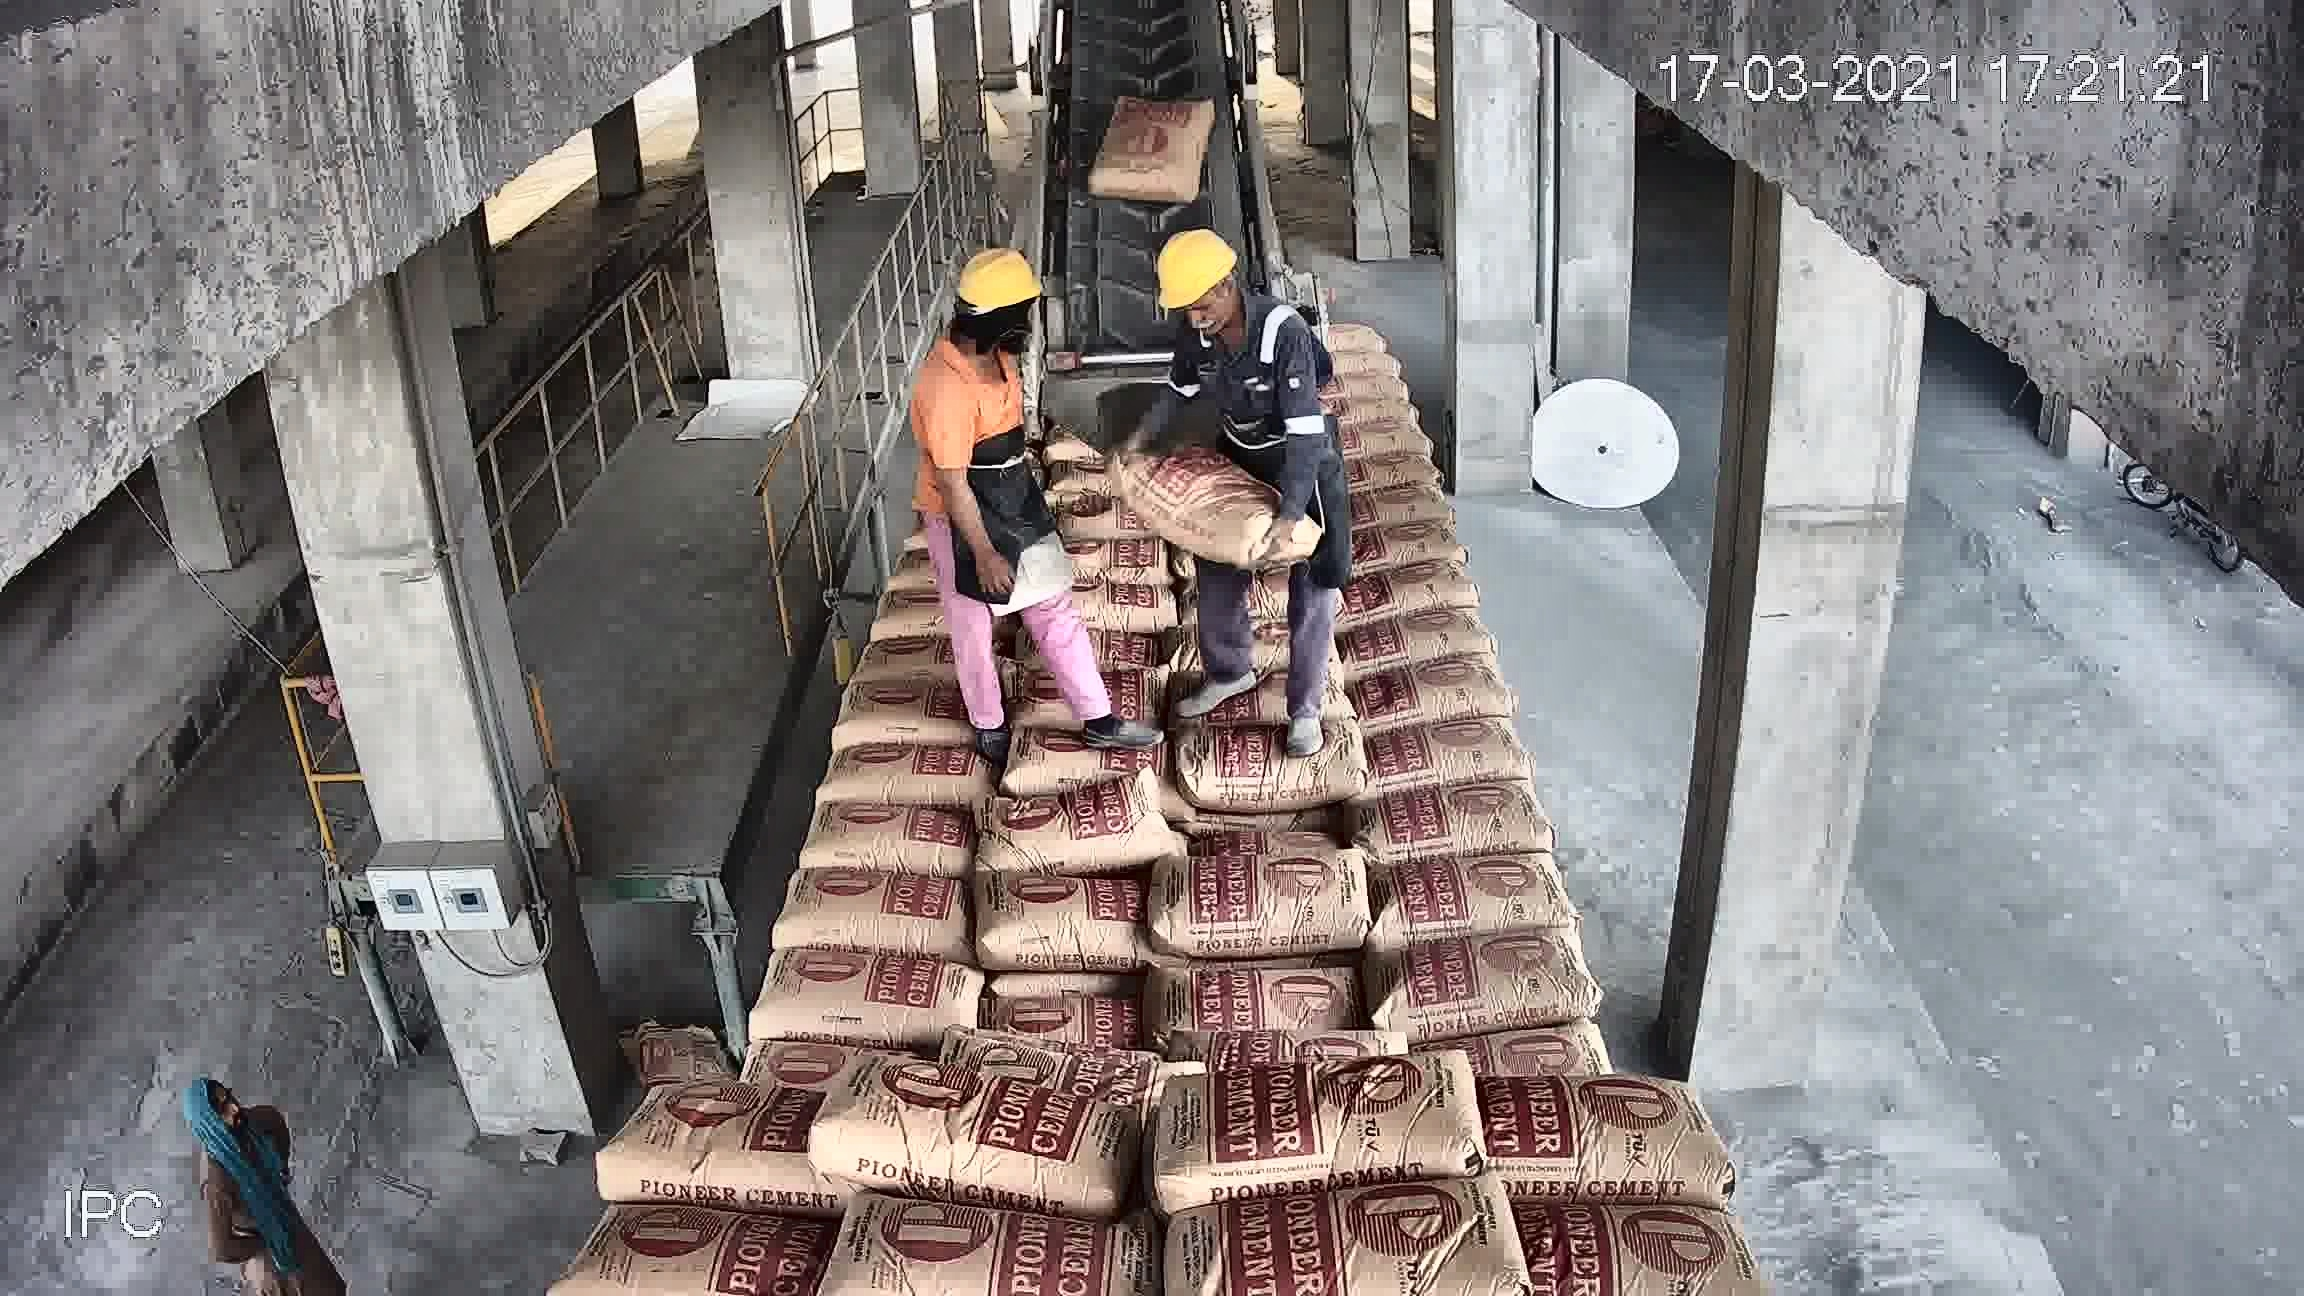bag_h: (1138, 1032, 1487, 1212), (1119, 926, 1465, 1084), (1139, 1158, 1549, 1287), (1116, 828, 1426, 964), (815, 1059, 1109, 1201), (877, 929, 1135, 1086), (1143, 714, 1416, 859), (1461, 1054, 1734, 1196), (646, 975, 878, 1109), (1459, 943, 1688, 1063), (820, 1209, 1150, 1290), (889, 848, 1149, 946), (555, 1198, 831, 1290), (592, 1105, 802, 1222), (1418, 851, 1636, 961), (1378, 755, 1603, 858), (913, 752, 1161, 843), (690, 870, 902, 967), (1521, 1185, 1764, 1269), (712, 774, 888, 873), (1021, 668, 1179, 744), (916, 530, 1051, 604), (1397, 642, 1506, 722), (1415, 704, 1521, 783), (886, 503, 1025, 563), (1040, 532, 1180, 590), (1016, 581, 1185, 627), (1154, 601, 1250, 679), (1017, 617, 1157, 666), (1013, 720, 1185, 758), (1168, 657, 1279, 715), (1187, 563, 1301, 619), (1192, 519, 1301, 570), (915, 460, 1010, 513)
belt: (1025, 17, 1285, 486)
